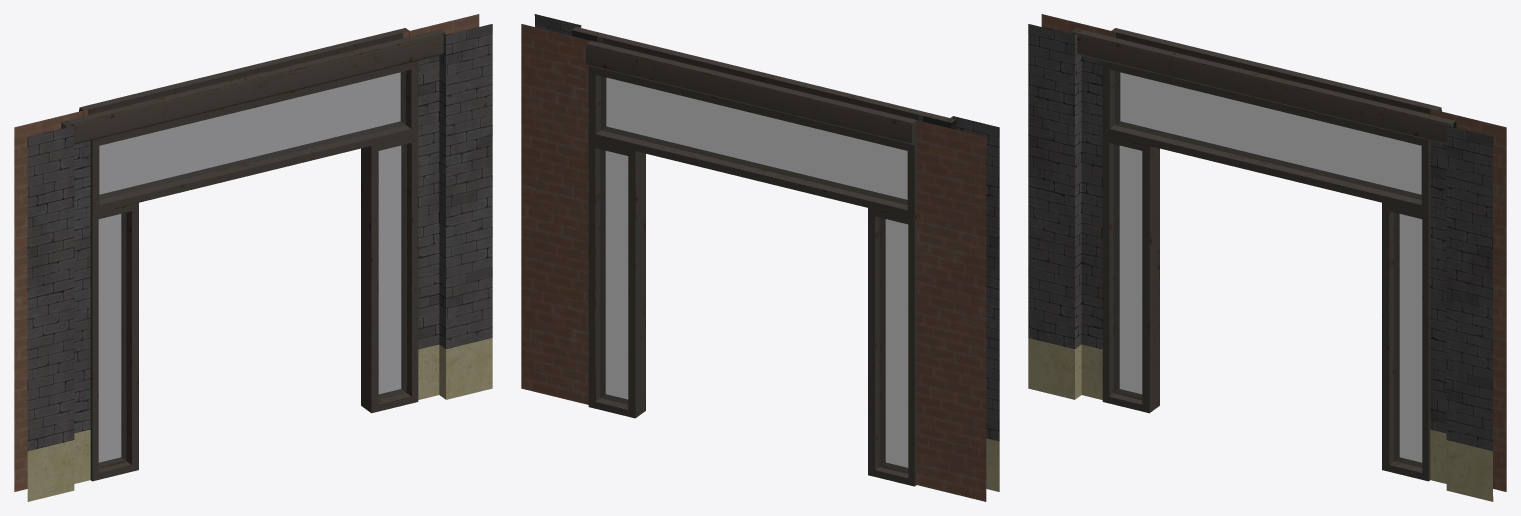
Rendered from DoorFrame_WornBrick.gltf.
3 views of the same model, side by side, from view 1: azimuth 30°, elevation 25°; view 2: azimuth 150°, elevation 25°; view 3: azimuth 330°, elevation 25° (orthographic).
Parts seen in each view (by area): view 1: DoorFrame_WornBrick; view 2: DoorFrame_WornBrick; view 3: DoorFrame_WornBrick.
Part boxes in pixels (x1,y1,x2,y2): DoorFrame_WornBrick: (14,14,492,501); DoorFrame_WornBrick: (521,14,999,501); DoorFrame_WornBrick: (1028,14,1506,501).
Size of the model in its own units: 4 by 3 by 0.2699.
Materials: 5 (4 with a texture image).
